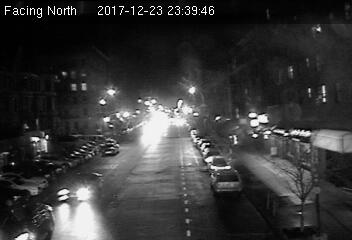car: (56, 171, 102, 202), (208, 168, 244, 194), (100, 143, 119, 155)
